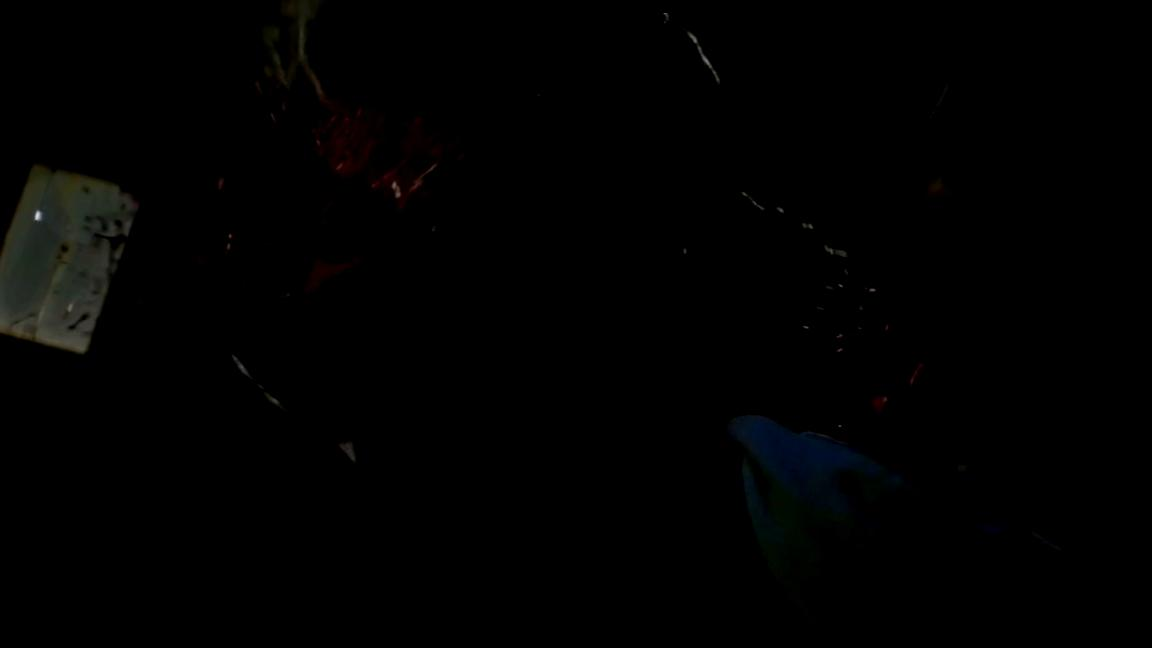Fire: (94, 82, 477, 358), (66, 311, 97, 335), (56, 240, 74, 267)
